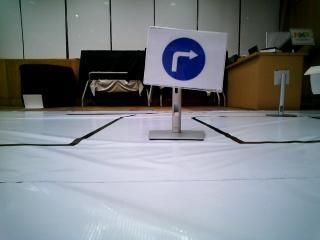right: (152, 28, 225, 92)
